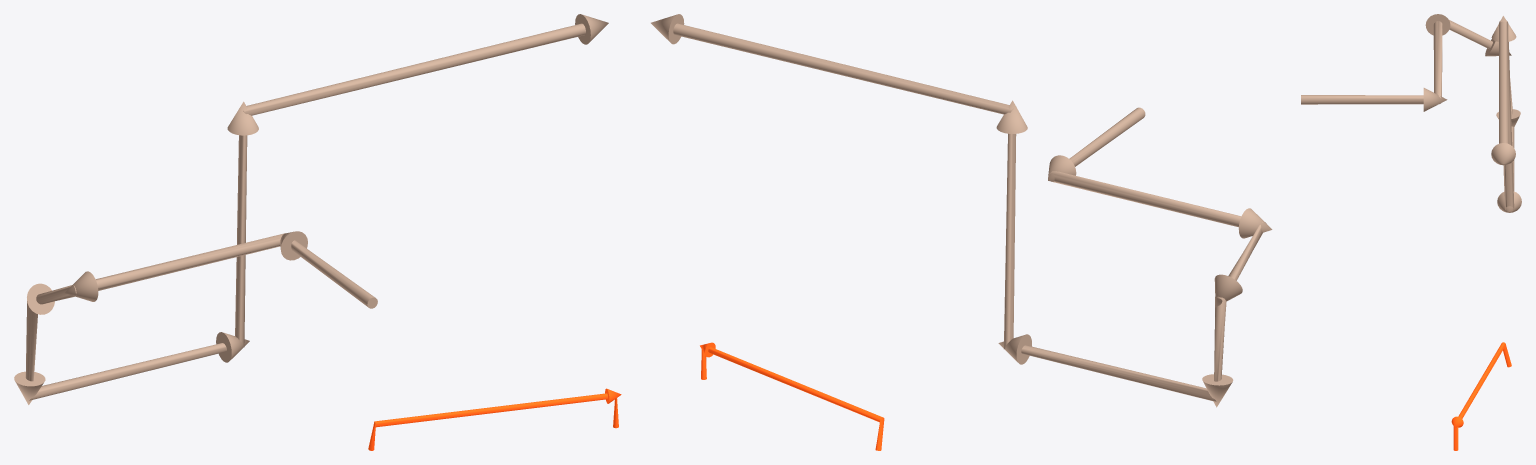
File: flare_knockout_drum_flow.glb
3 views of the same model, side by side, from view 1: azimuth 30°, elevation 25°; view 2: azimuth 150°, elevation 25°; view 3: azimuth 270°, elevation 25° (orthographic). The views are drawn at different scales.
Parts seen in each view (by area): view 1: relief_gas, pump_out; view 2: relief_gas, pump_out; view 3: relief_gas, pump_out.
Part boxes in pixels (x1,y1,x2,y2): relief_gas: (14,14,608,404); pump_out: (368,388,621,450); relief_gas: (651,14,1272,407); pump_out: (700,342,884,450); relief_gas: (1301,14,1521,212); pump_out: (1451,342,1511,450).
Bounding box in the file's own units: 4.48 × 2.83 × 1.85.
